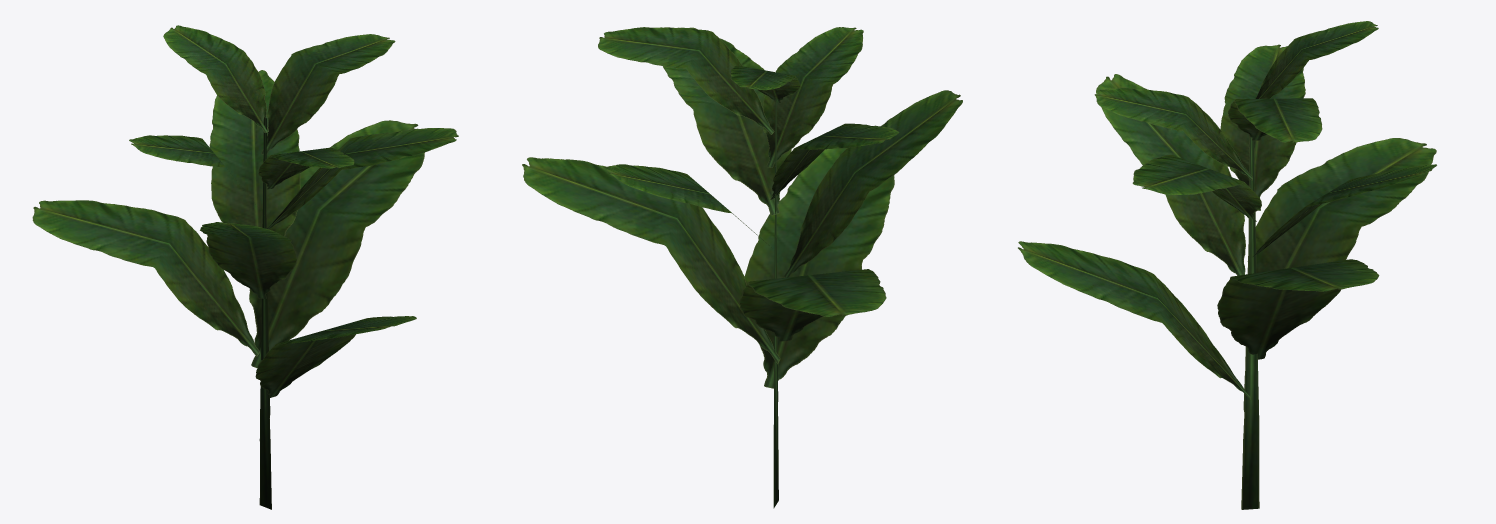
Rendered from fxmg_zhiwu1.FBX.
3 views of the same model, side by side, from view 1: azimuth 30°, elevation 25°; view 2: azimuth 150°, elevation 25°; view 3: azimuth 270°, elevation 25° (orthographic). The views are drawn at different scales.
Parts seen in each view (by area): view 1: KLMSM_zhiwu1; view 2: KLMSM_zhiwu1; view 3: KLMSM_zhiwu1.
Boxes of the visible parts, x1,y1,x2,y2 form: KLMSM_zhiwu1: [32, 25, 458, 509]; KLMSM_zhiwu1: [522, 27, 962, 508]; KLMSM_zhiwu1: [1018, 21, 1436, 509].
Bounding box in the file's own units: 513 × 539 × 491.
